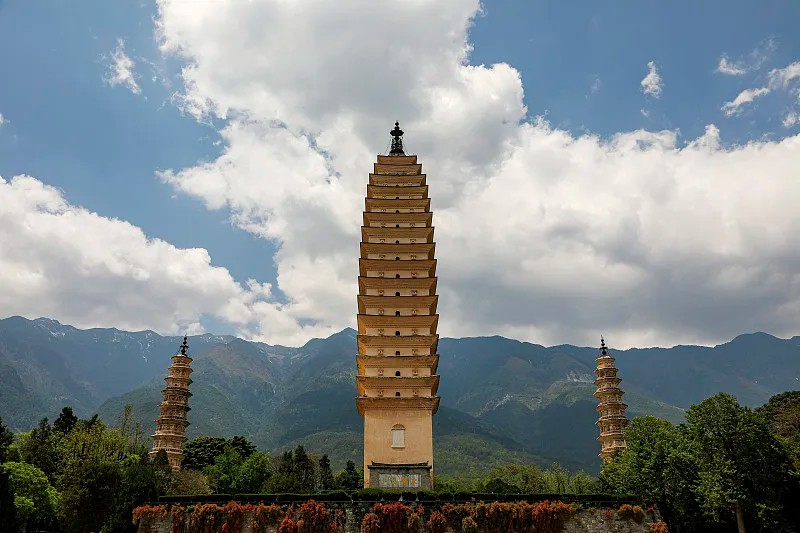ThreePagoda: (356, 122, 440, 491)
